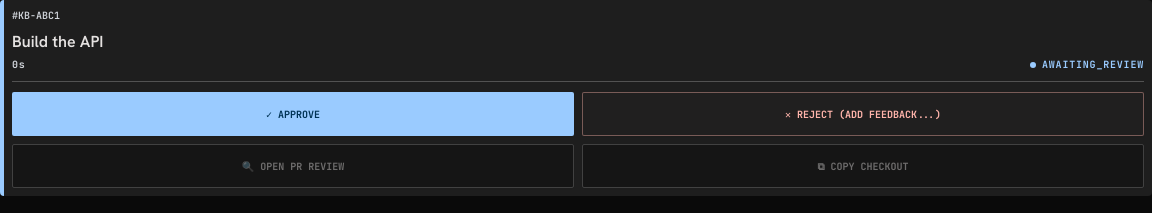
Scenario: disables Approve button and displays loading indicator while in-flight
The width and height of the screenshot is (1152, 213).
Click the button with aria-label "Approve task #KB-ABC1" at (293, 114), box [12, 92, 574, 136]
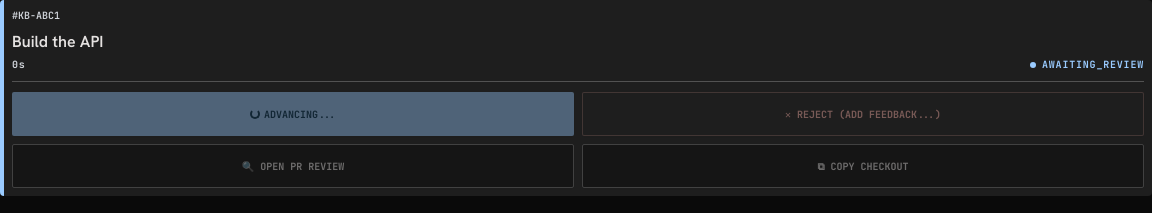
Now the button with aria-label "Approve task #KB-ABC1" is disabled
Now the text "Advancing..." is shown, box [264, 107, 336, 122]
// Attempt second click while in-flight
Click the button with aria-label "Approve task #KB-ABC1" at (293, 114), box [12, 92, 574, 136]
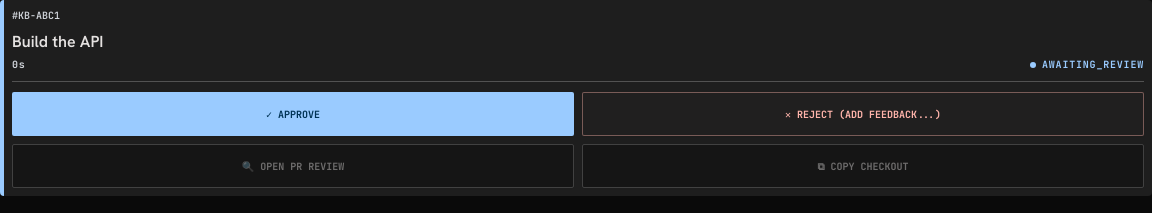
Now the text "Advancing..." is gone
Now the button with aria-label "Approve task #KB-ABC1" is enabled, box [12, 92, 574, 136]
